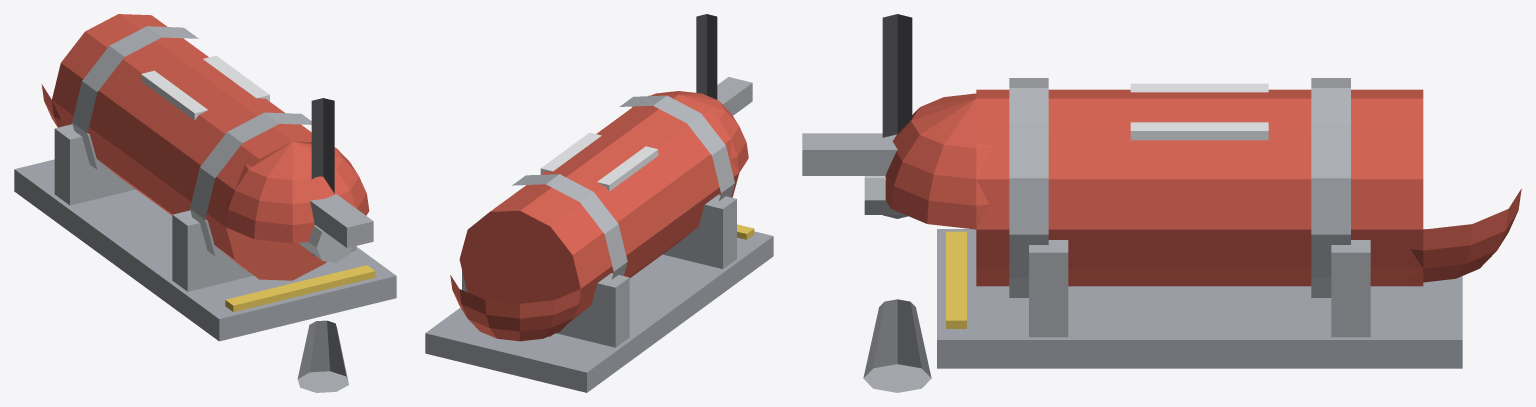
File: prop_extinguisher.glb
3 renders of one model, left to right at view 1: azimuth 30°, elevation 25°; view 2: azimuth 150°, elevation 25°; view 3: azimuth 270°, elevation 25°, orthographic. The views are drawn at different scales.
Parts seen in each view (by area): view 1: prop_extinguisher; view 2: prop_extinguisher; view 3: prop_extinguisher.
Part boxes in pixels (x1,y1,x2,y2): prop_extinguisher: (14,14,396,392); prop_extinguisher: (425,14,773,392); prop_extinguisher: (802,14,1521,392).
Size of the model in its own units: 0.2 by 0.3 by 0.5475.
